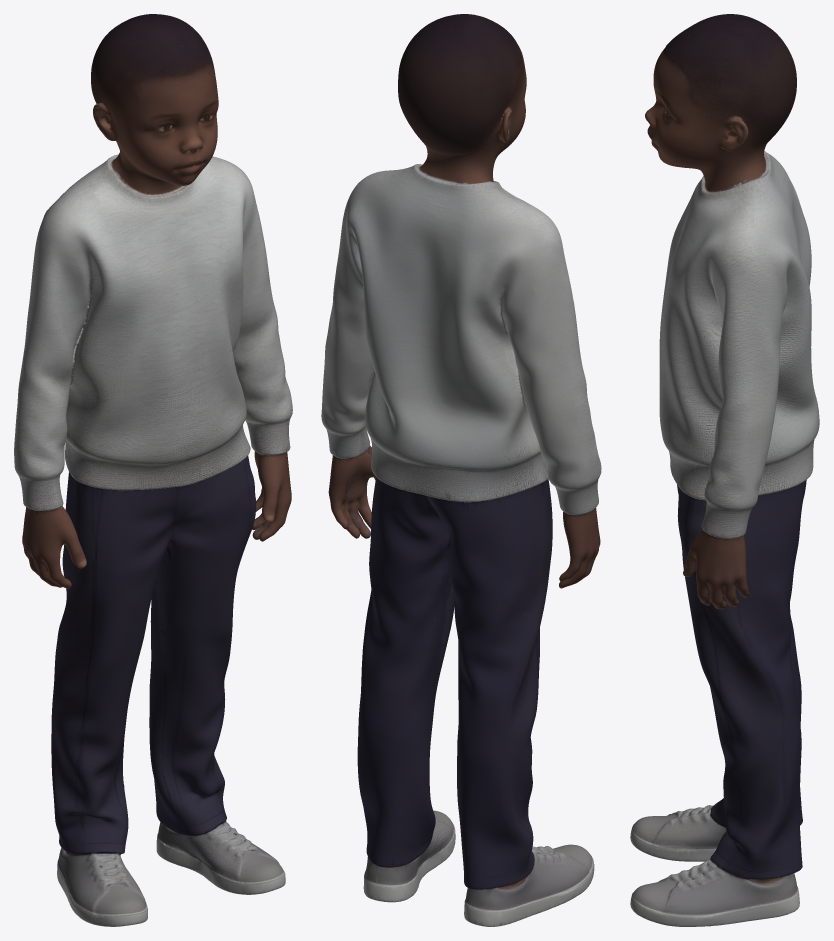
Rendered from kojo-meshy.glb.
3 views of the same model, side by side, from view 1: azimuth 30°, elevation 25°; view 2: azimuth 150°, elevation 25°; view 3: azimuth 270°, elevation 25° (orthographic).
Bounding box in the file's own units: 0.6208 × 1.9 × 0.3768.
Materials: 1 (1 with a texture image).
